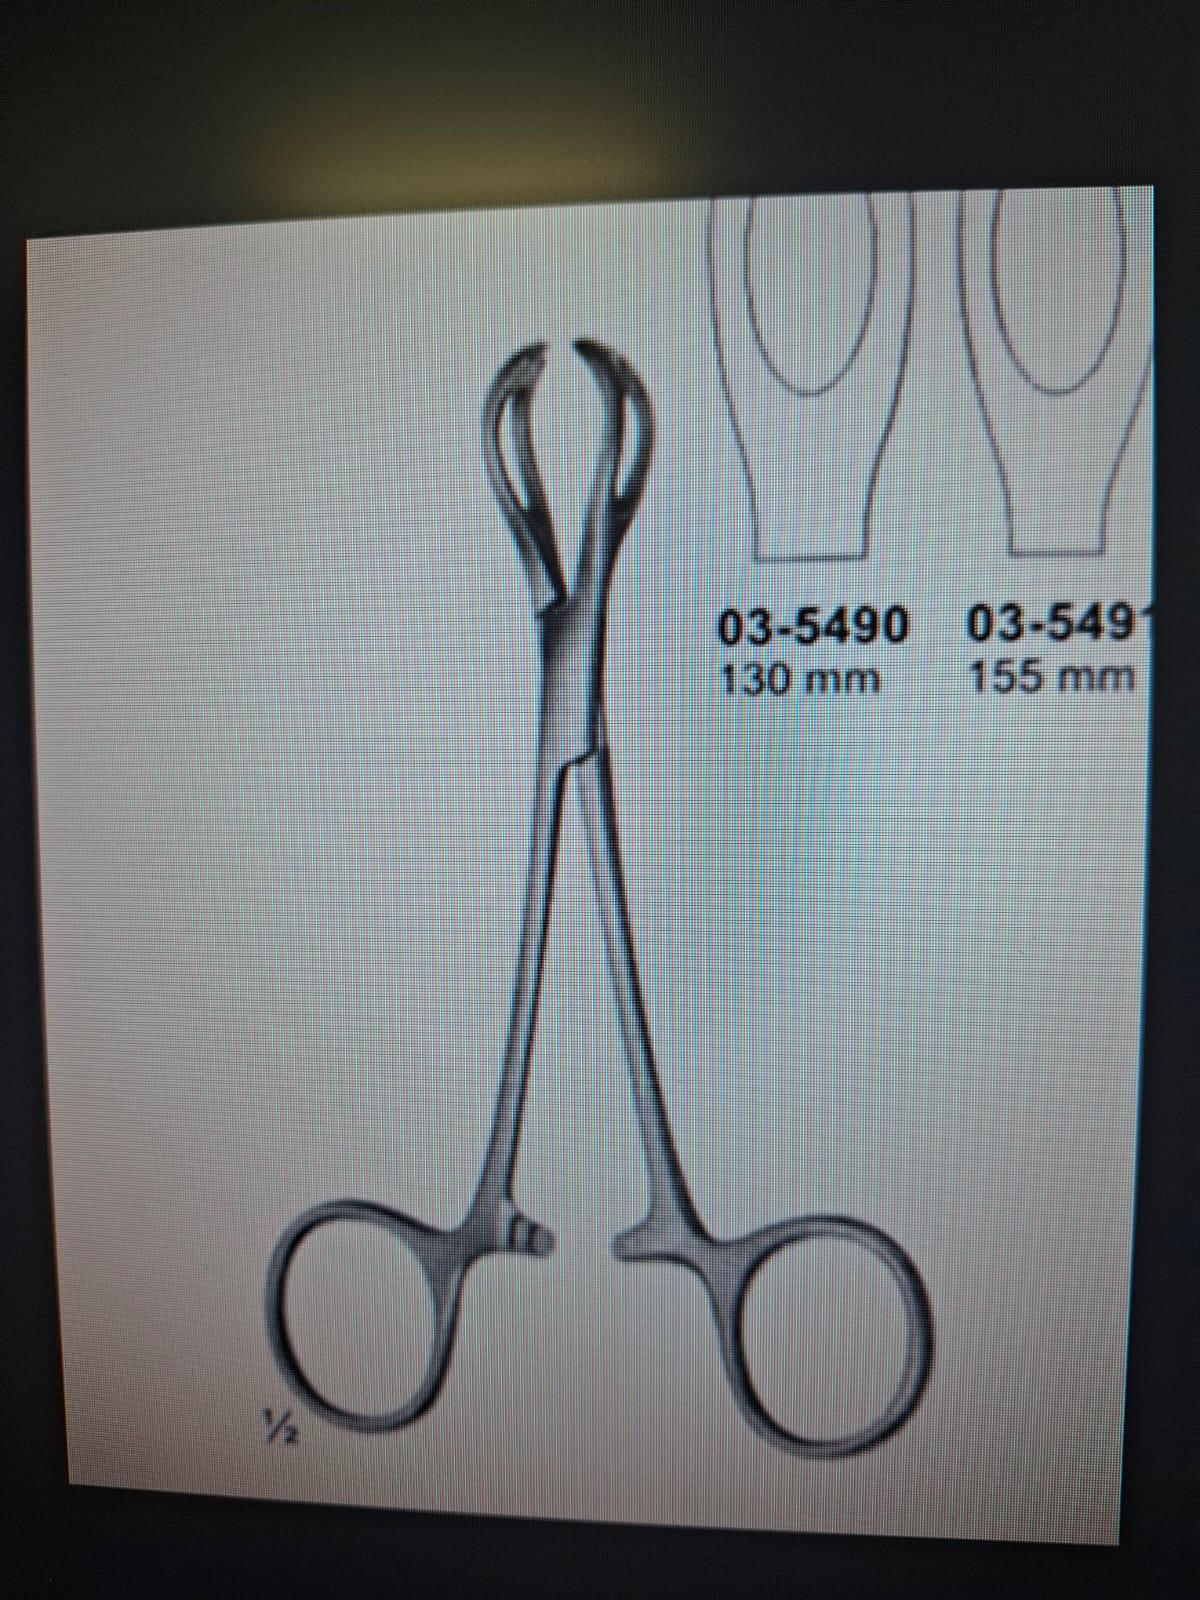Lane Tissue Forceps: (255, 328, 943, 1475)
